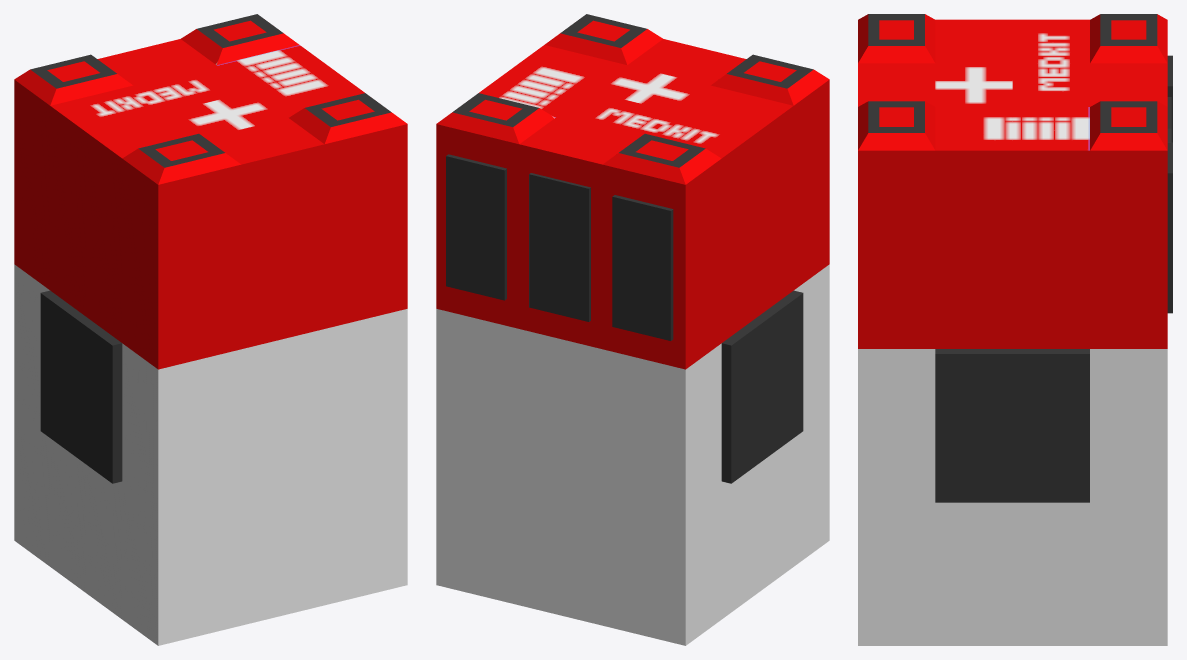
File: MedKitS.fbx
3 views of the same model, side by side, from view 1: azimuth 30°, elevation 25°; view 2: azimuth 150°, elevation 25°; view 3: azimuth 270°, elevation 25° (orthographic). The views are drawn at different scales.
Parts seen in each view (by area): view 1: MedKit; view 2: MedKit; view 3: MedKit.
Part boxes in pixels (bbox=[...]): MedKit: bbox=[14, 14, 407, 645]; MedKit: bbox=[436, 14, 829, 645]; MedKit: bbox=[858, 14, 1172, 645].
Bounding box in the file's own units: 62.68 × 105 × 59.17.
Materials: 1 (1 with a texture image).
